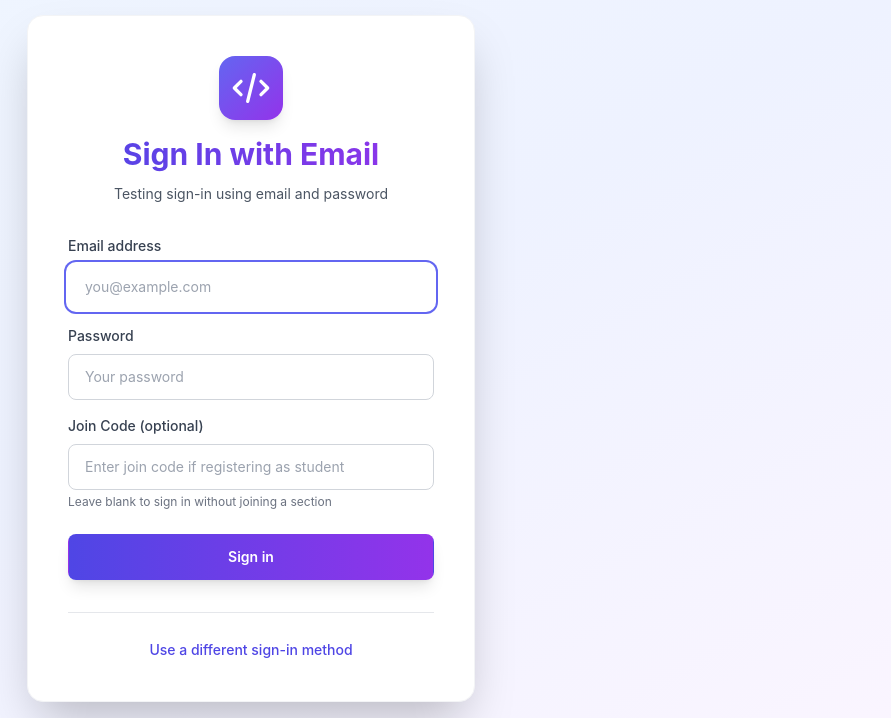
Test case: EmailSignInPage › Error Handling › shows loading state while signing in
This screenshot has width=891, height=718.
Type "test@example.com" into the field labelled "Email address" at (251, 286), box [68,264,434,310]
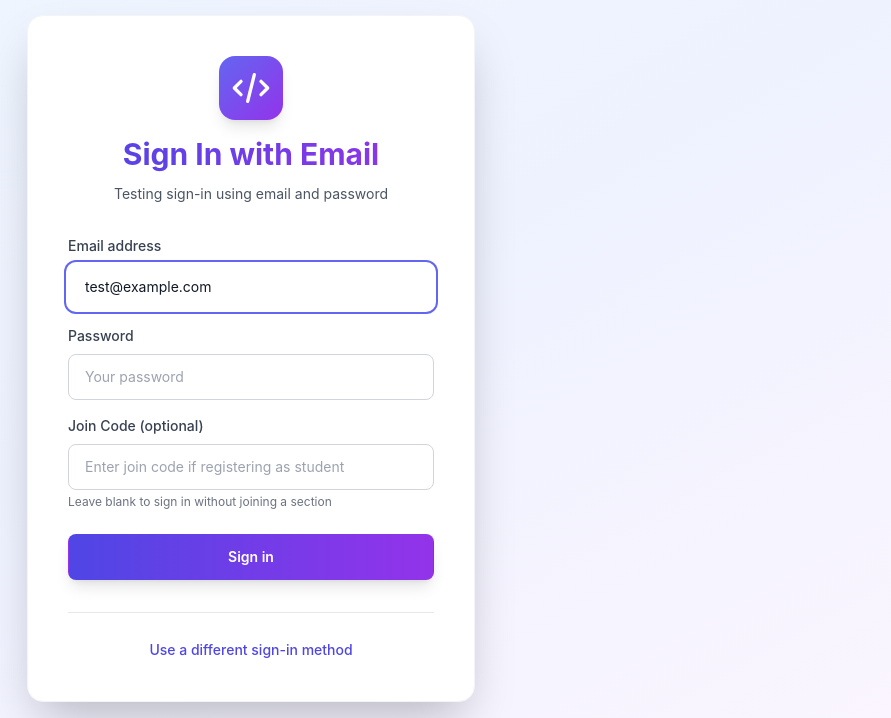
Type "password123" into the password field labelled "Password" at (251, 376), box [68,354,434,400]
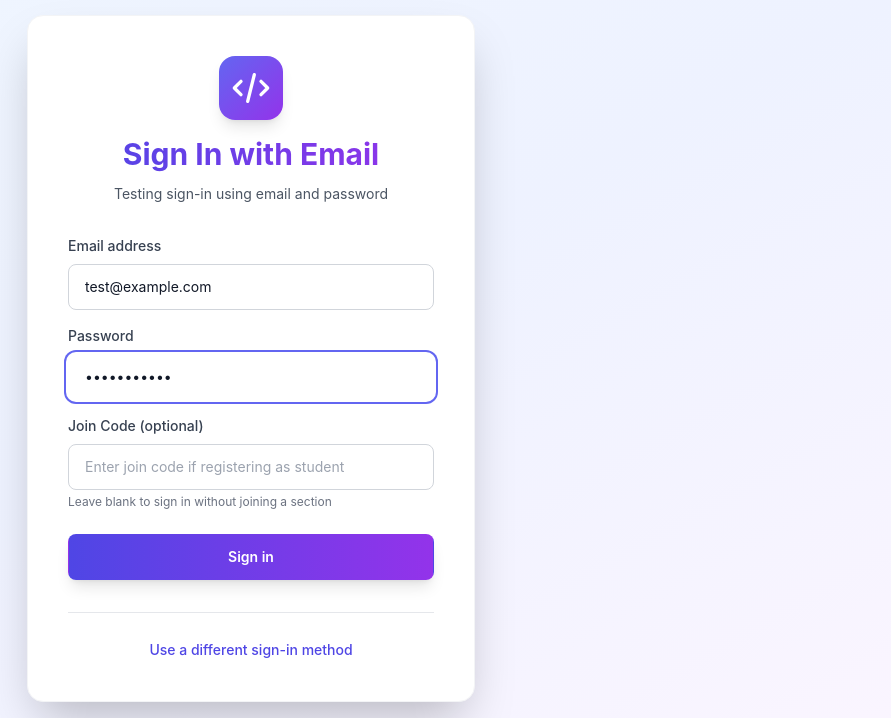
Click the button "Sign in" at (251, 556), box [68,534,434,580]
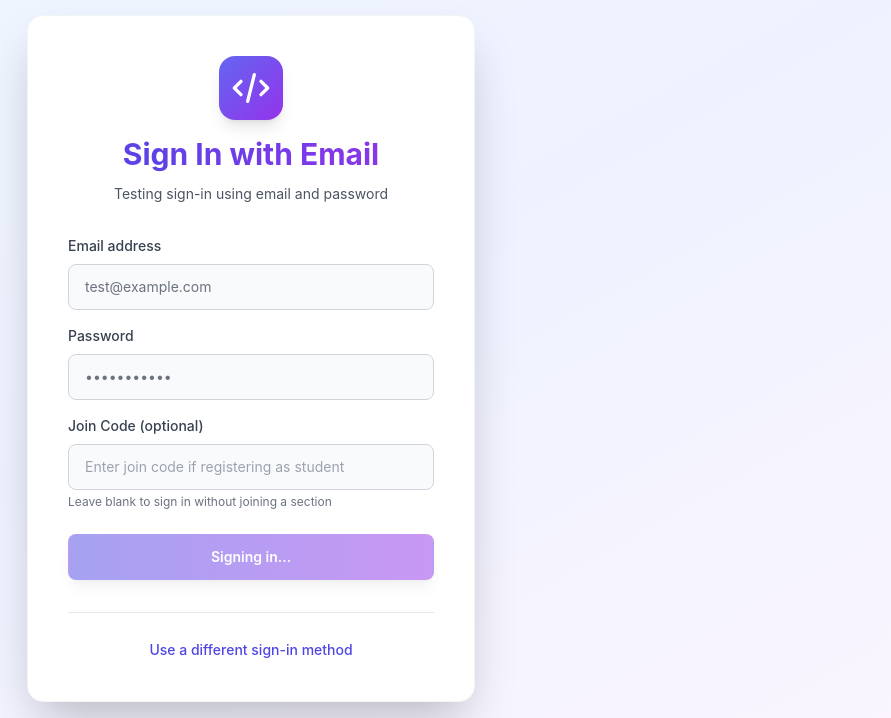
expect the button "Signing in..." is disabled: met, box [68,534,434,580]
